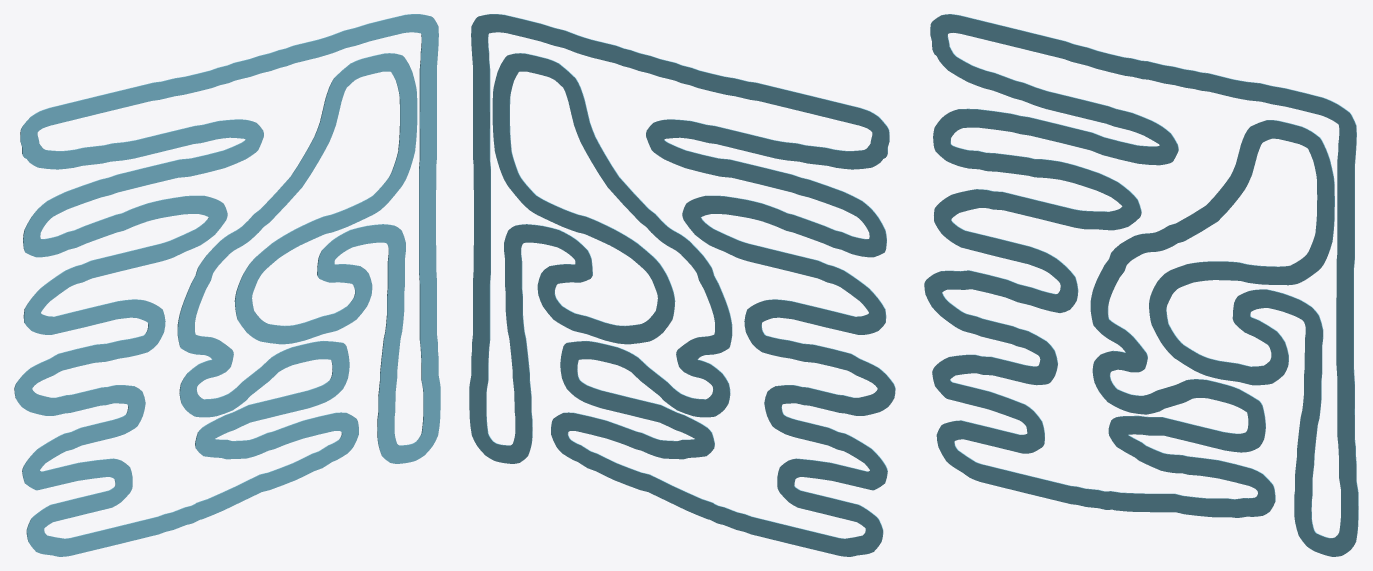
File: tinker.obj
3 views of the same model, side by side, from view 1: azimuth 30°, elevation 25°; view 2: azimuth 150°, elevation 25°; view 3: azimuth 330°, elevation 25° (orthographic).
Visible parts, largest first — view 1: obj_0; view 2: obj_0; view 3: obj_0.
Boxes of the visible parts, x1,y1,x2,y2 form: obj_0: [14, 14, 440, 556]; obj_0: [469, 14, 895, 556]; obj_0: [924, 14, 1358, 556].
Size of the model in its own units: 50.52 by 52.08 by 0.1.
